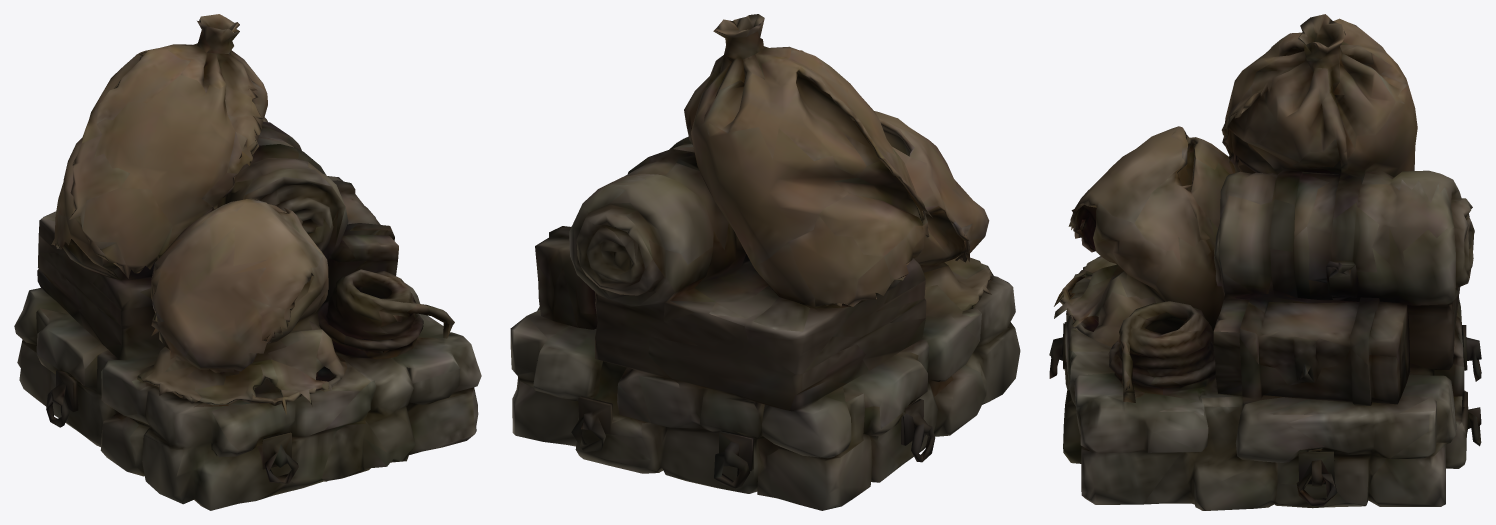
File: supply-pile.glb
The picture shows the model from 3 angles, left to right: view 1: azimuth 30°, elevation 25°; view 2: azimuth 150°, elevation 25°; view 3: azimuth 270°, elevation 25°; orthographic projection. The views are drawn at different scales.
Parts seen in each view (by area): view 1: tripo_node_831bd81e-4f8e-4b9c-98b5-02bfd2577ea7; view 2: tripo_node_831bd81e-4f8e-4b9c-98b5-02bfd2577ea7; view 3: tripo_node_831bd81e-4f8e-4b9c-98b5-02bfd2577ea7.
Part boxes in pixels (bbox=[...]): tripo_node_831bd81e-4f8e-4b9c-98b5-02bfd2577ea7: bbox=[14, 14, 481, 510]; tripo_node_831bd81e-4f8e-4b9c-98b5-02bfd2577ea7: bbox=[510, 14, 1020, 510]; tripo_node_831bd81e-4f8e-4b9c-98b5-02bfd2577ea7: bbox=[1049, 14, 1481, 510].
Bounding box in the file's own units: 0.9572 × 1 × 0.9705.
1 material, 1 textured.
